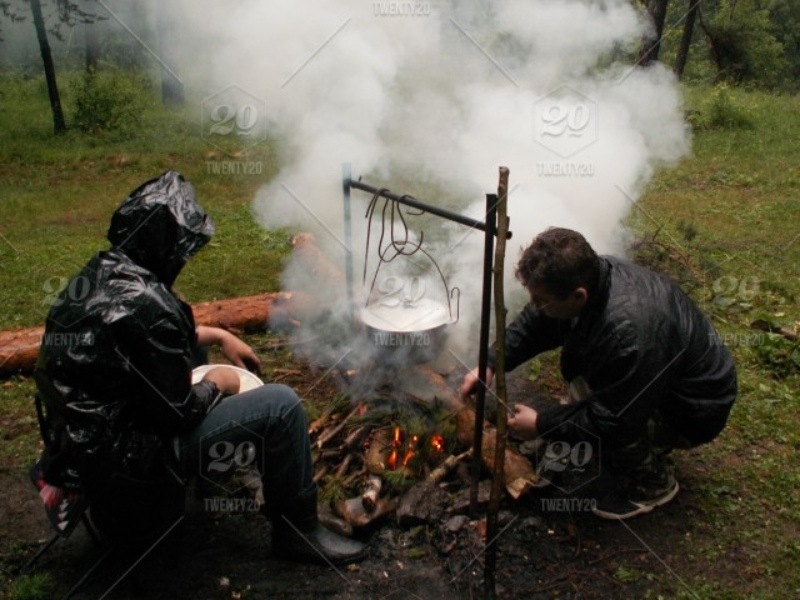smoke: (186, 1, 630, 330)
